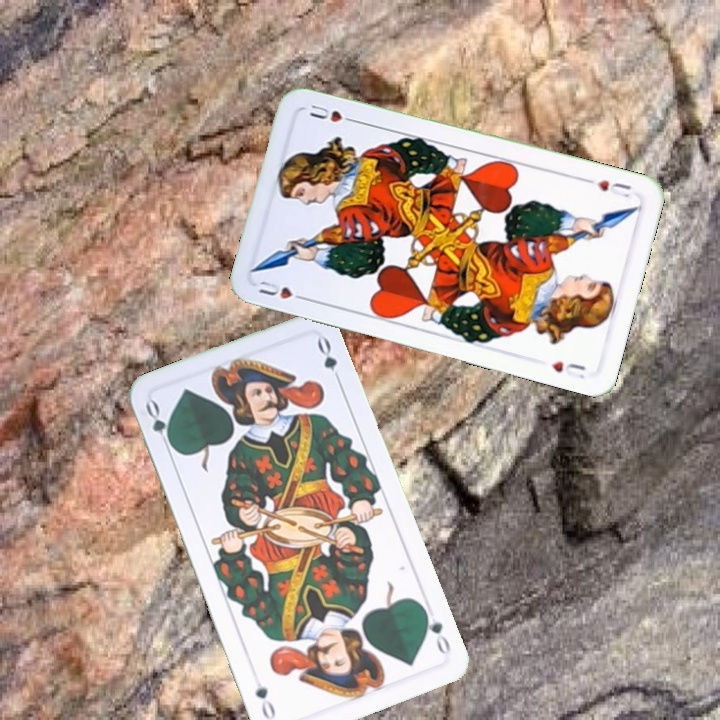GO: (141, 397, 178, 454), (418, 602, 453, 657)
HU: (254, 276, 311, 304), (581, 174, 634, 201)
